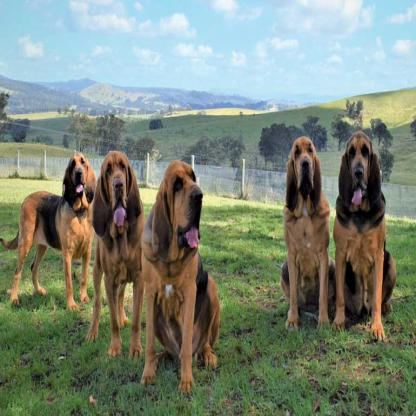Bloodhound: (141, 153, 216, 393), (1, 145, 94, 312), (331, 128, 397, 343), (282, 134, 338, 338), (93, 148, 146, 354)
